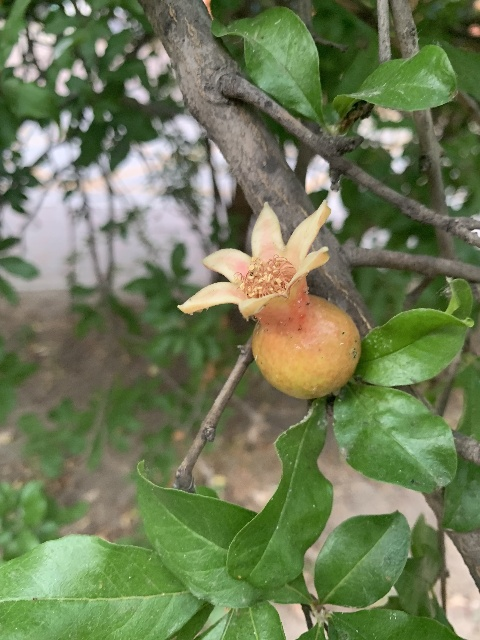early-fruit: (179, 198, 362, 400)
